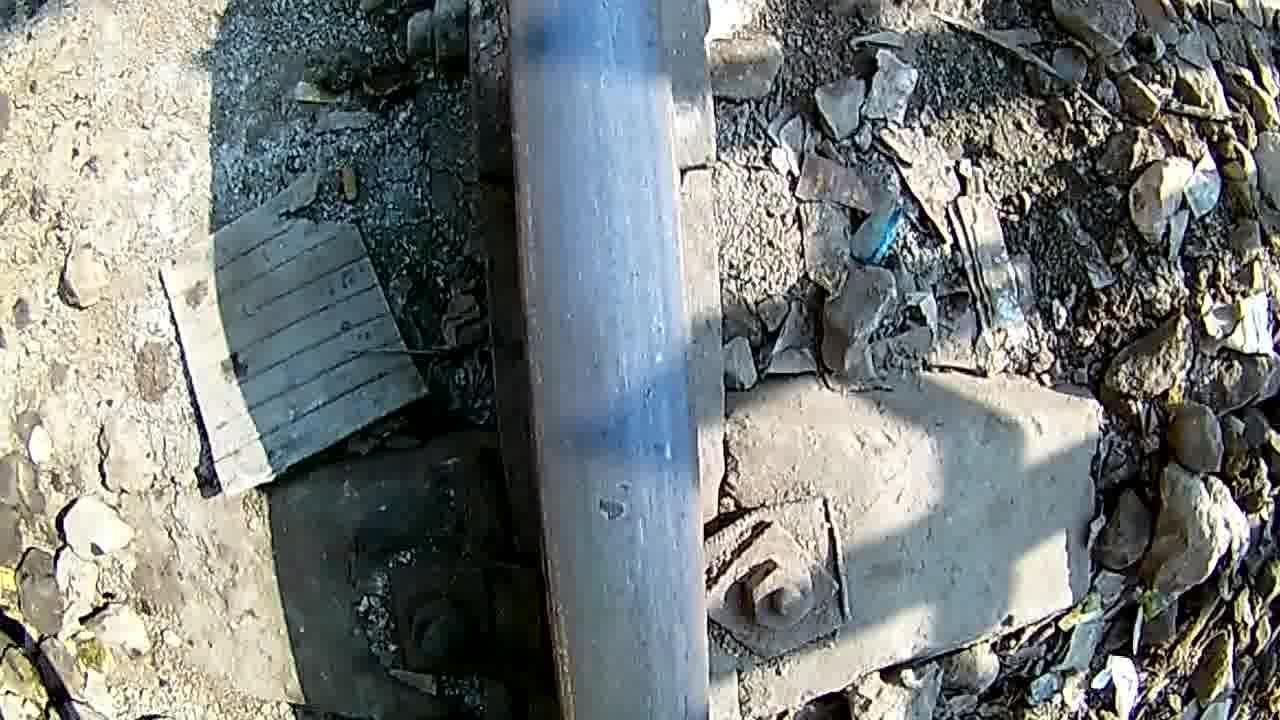crack: (537, 161, 701, 609)
